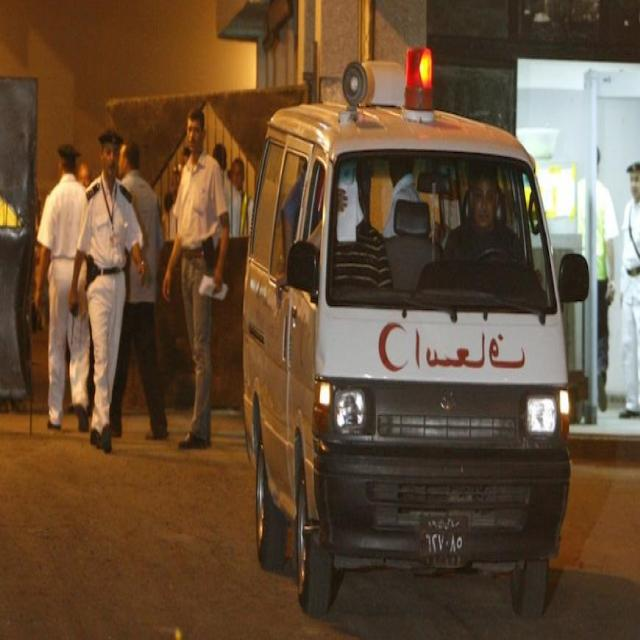Ambulance: (240, 46, 590, 620)
person: (436, 162, 526, 264), (619, 161, 639, 417)
